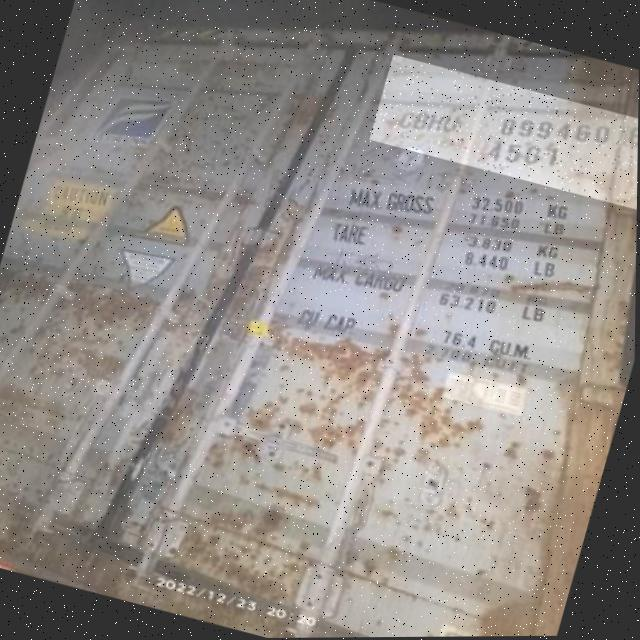container_number_h: (368, 53, 639, 214)
